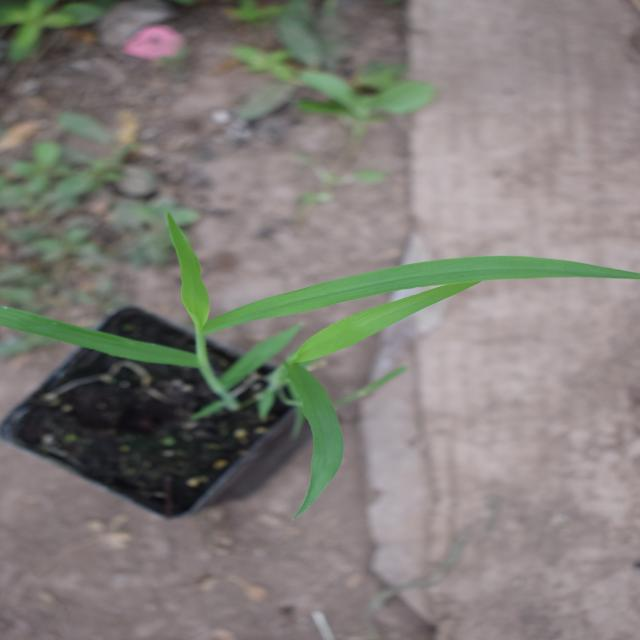crabgrass: (154, 49, 417, 569)
